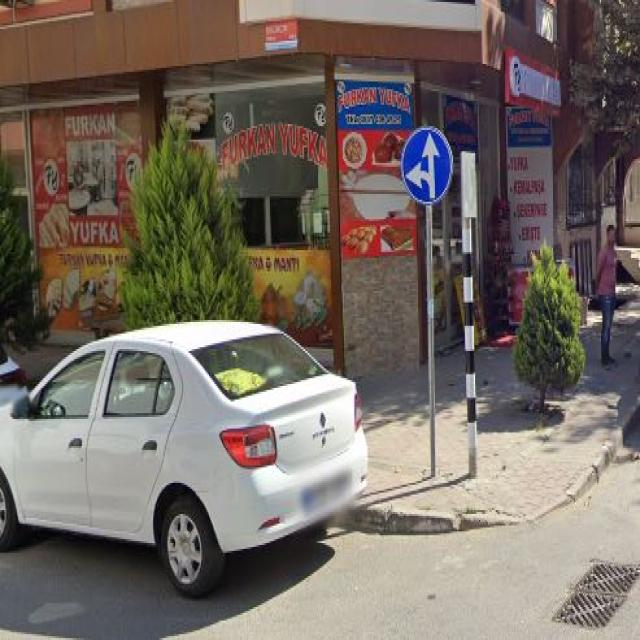ilerisol: (401, 126, 452, 206)
